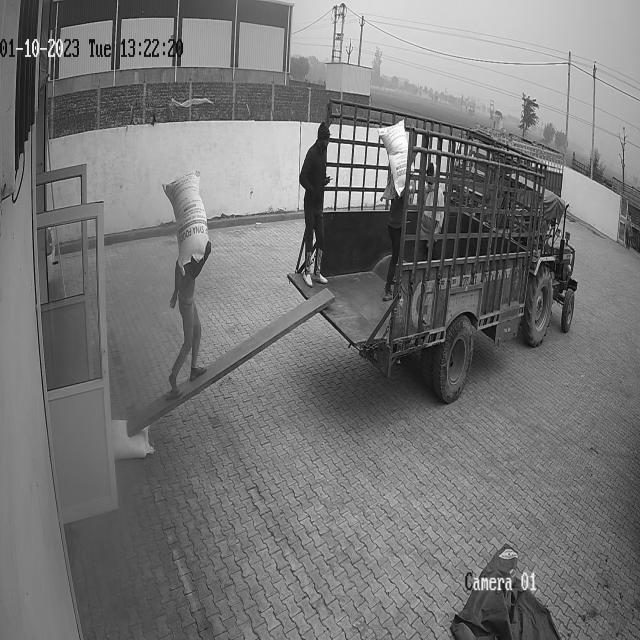sack: (162, 171, 208, 266), (112, 419, 152, 459)
